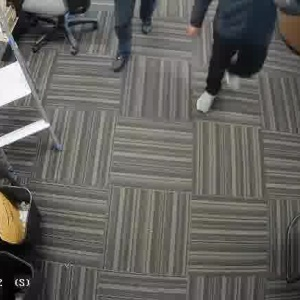person: (190, 0, 294, 107), (105, 0, 166, 76)
